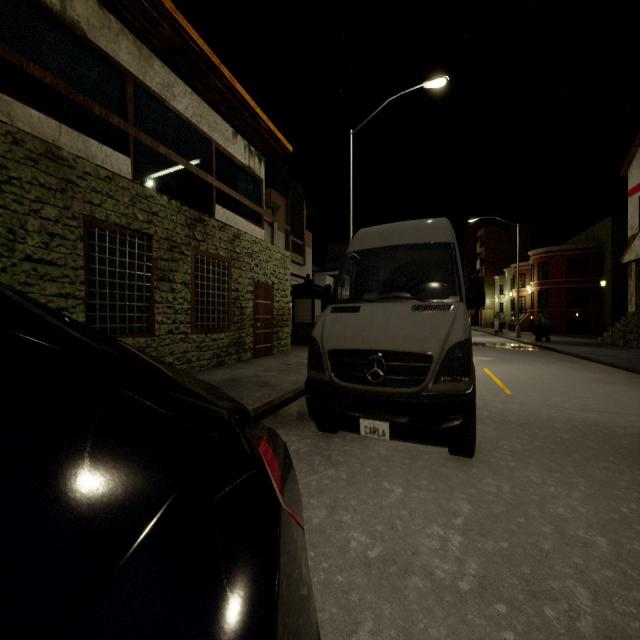Vehicle: (0, 283, 319, 638), (306, 220, 476, 457)
